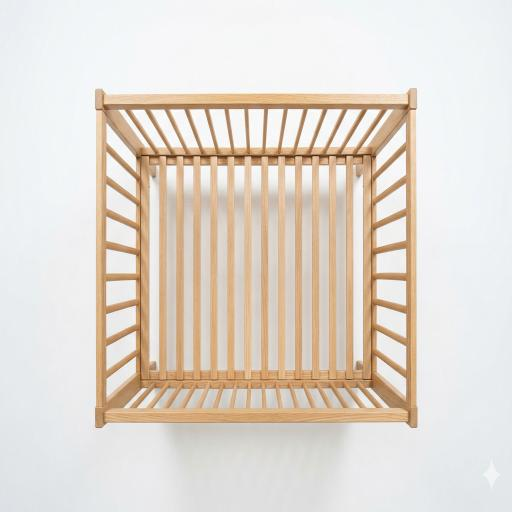crib: (96, 89, 417, 426)
